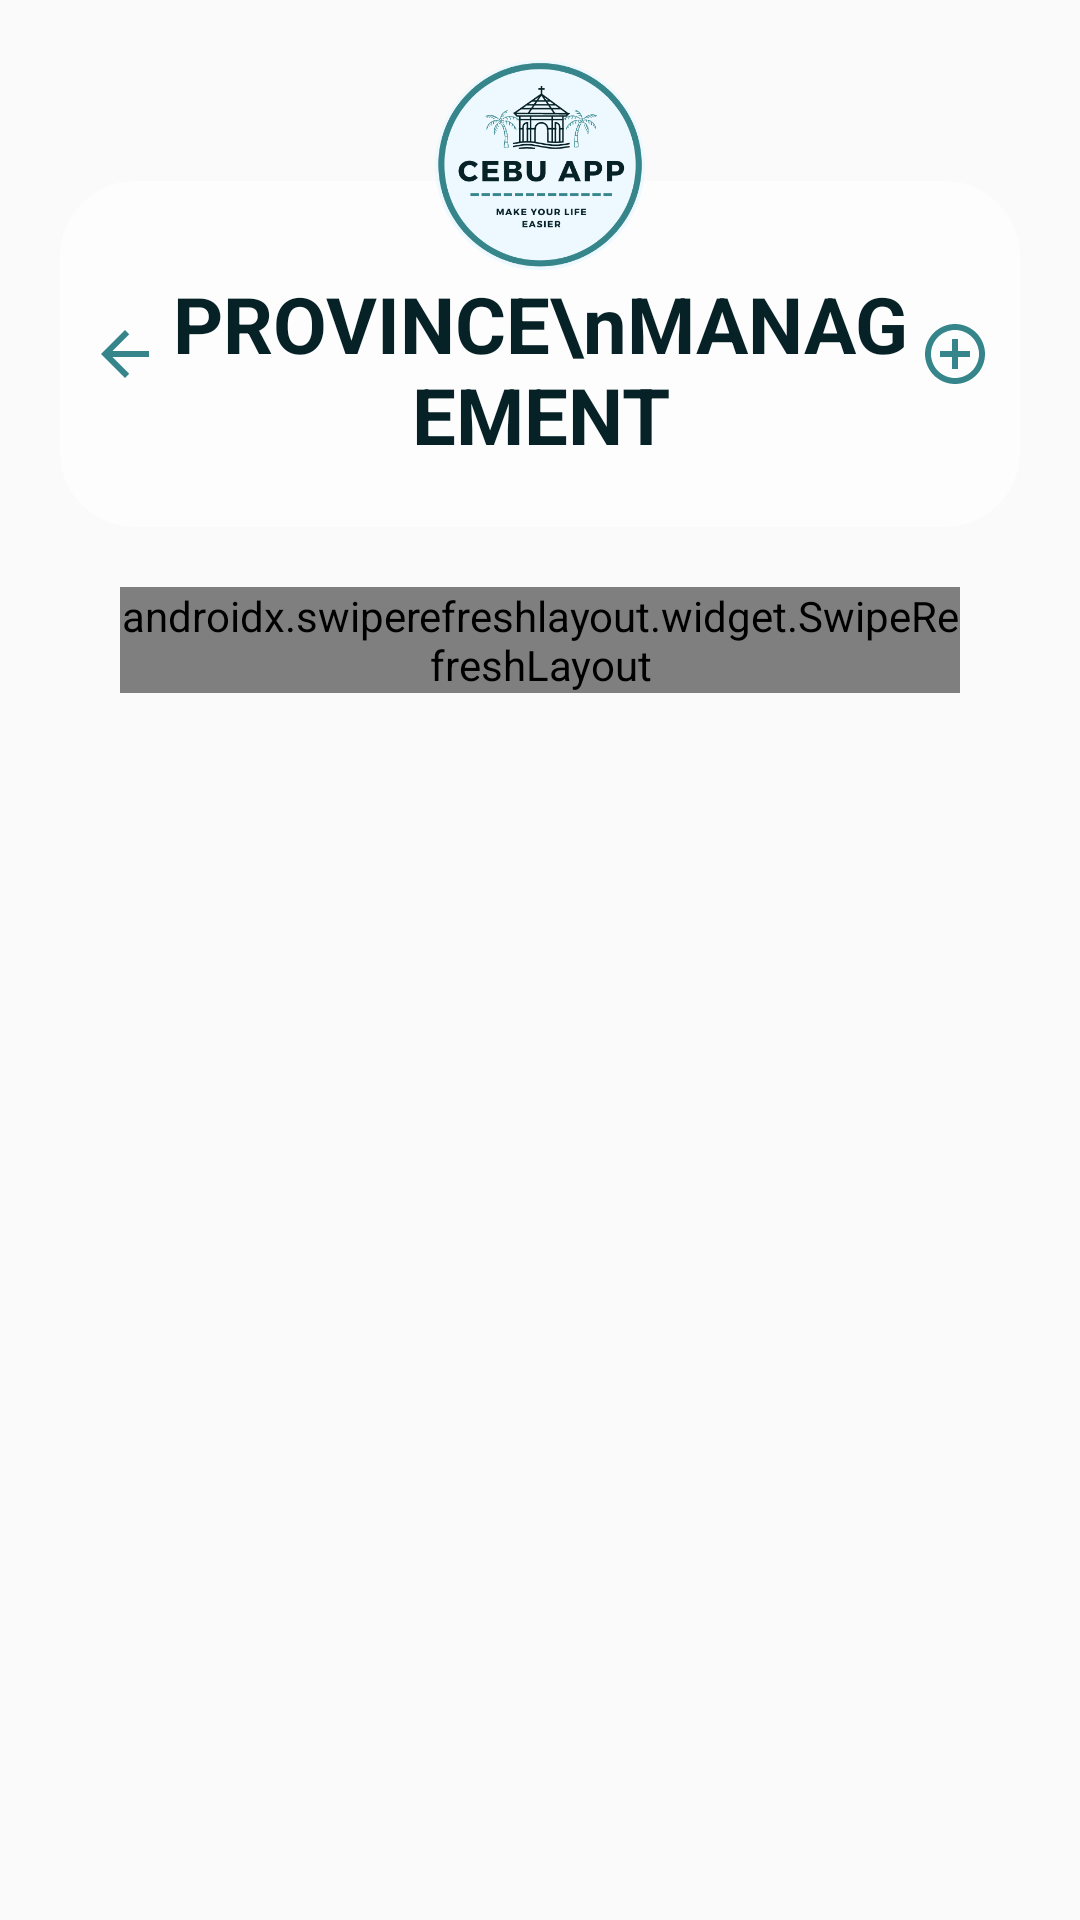

Point at icon controls on the screen. Image size 1080*1920, points as point (x, y).
add: point (955, 354)
back arrow: point (125, 354)
